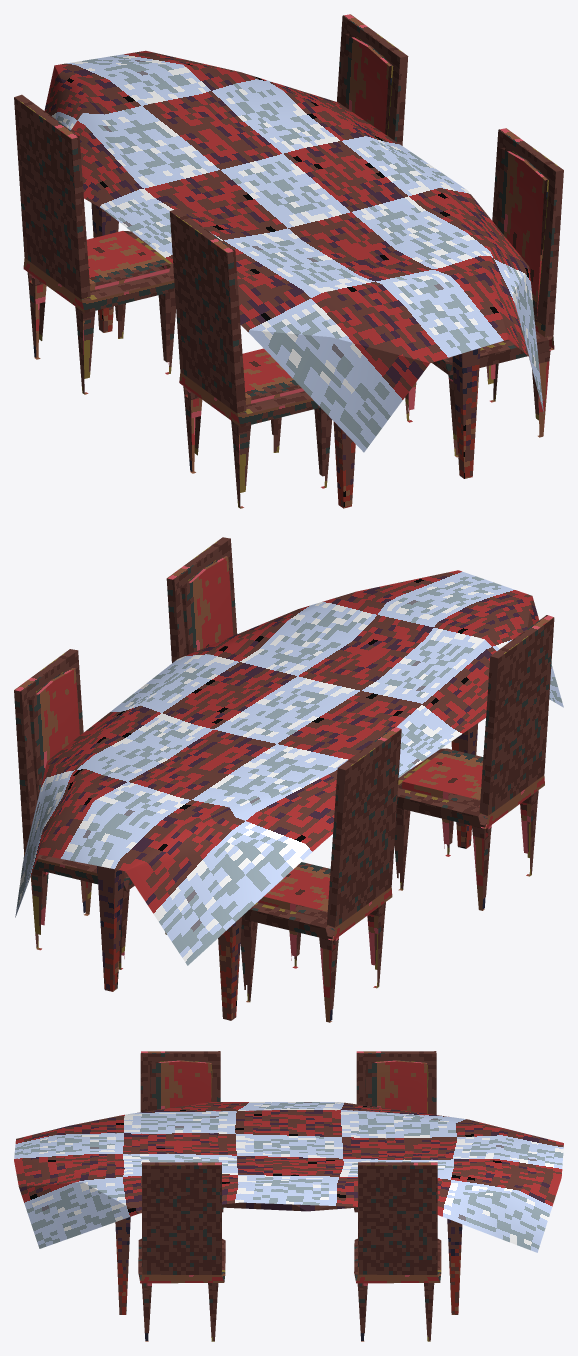
The model's file is Table2.fbx.
The picture shows the model from 3 angles, top to bottom: view 1: azimuth 30°, elevation 25°; view 2: azimuth 150°, elevation 25°; view 3: azimuth 270°, elevation 25°; orthographic projection. The views are drawn at different scales.
Visible parts, largest first — view 1: Cube.002; view 2: Cube.002; view 3: Cube.002.
Part boxes in pixels (box(x1,y1,x2,y2)): Cube.002: box(14, 14, 563, 508); Cube.002: box(14, 537, 563, 1022); Cube.002: box(14, 1051, 563, 1341).
Size of the model in its own units: 0.7424 by 1.51 by 0.5653.
Materials: 5 (5 with a texture image).
